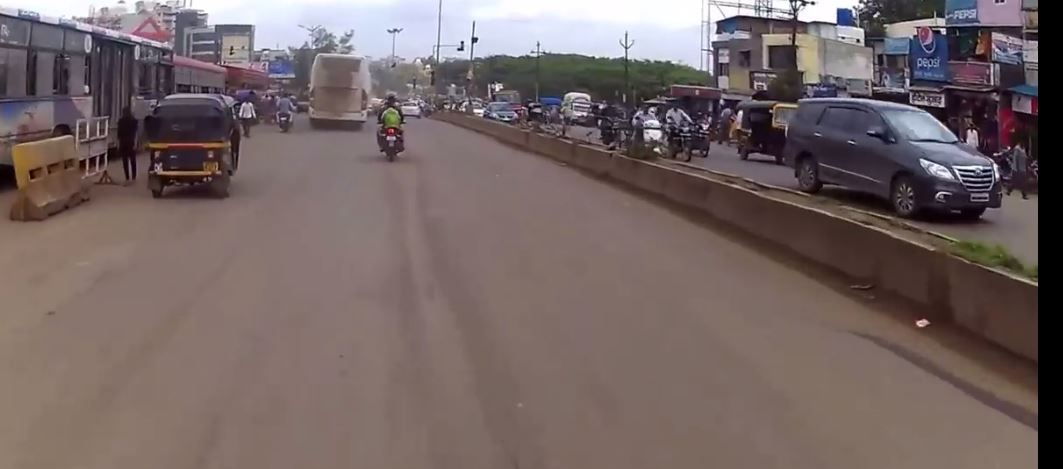autorickshaw: (143, 85, 256, 212), (730, 94, 800, 158)
car: (777, 91, 1009, 225), (481, 94, 517, 126)
